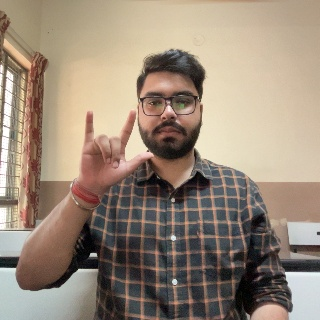I Love You: (72, 104, 153, 206)
